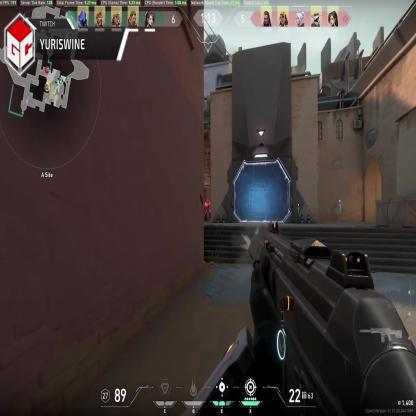enemy: (204, 198, 212, 222)
enemy_head: (206, 198, 210, 202)
